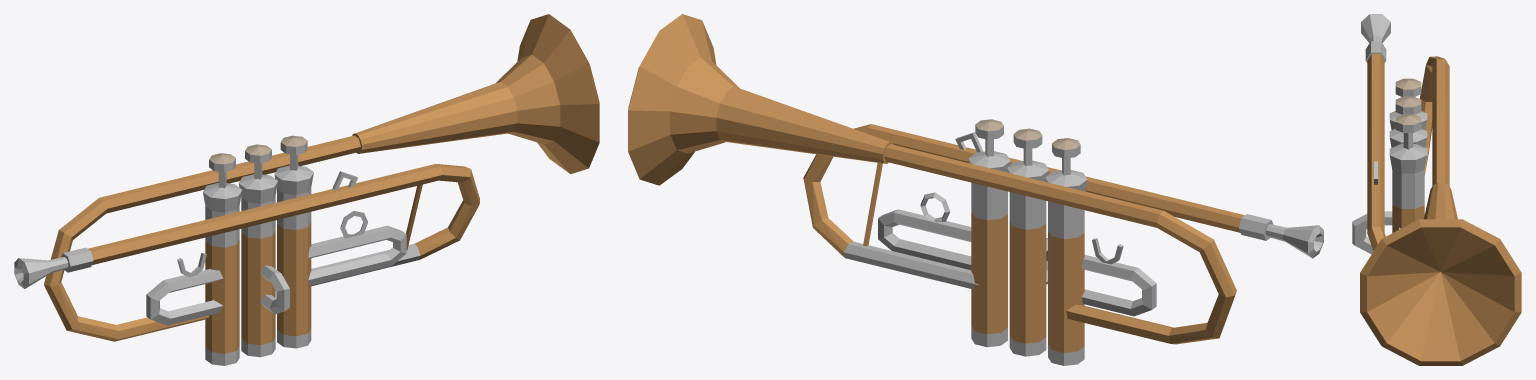
File: trumpet-349b2e.glb
The picture shows the model from 3 angles, left to right: view 1: azimuth 30°, elevation 25°; view 2: azimuth 150°, elevation 25°; view 3: azimuth 270°, elevation 25°; orthographic projection. The views are drawn at different scales.
Parts seen in each view (by area): view 1: trumpet-body, mouthpiece-mesh; view 2: trumpet-body, mouthpiece-mesh; view 3: trumpet-body, mouthpiece-mesh, piston-3-mesh, piston-1-pearl, piston-2-pearl, piston-3-pearl, piston-2-mesh, piston-1-mesh.
Boxes of the visible parts, left/top/right/bottom form: trumpet-body: left=44, top=14, right=599, bottom=365; mouthpiece-mesh: left=14, top=257, right=68, bottom=288; trumpet-body: left=628, top=14, right=1273, bottom=365; mouthpiece-mesh: left=1266, top=224, right=1323, bottom=258; trumpet-body: left=1352, top=41, right=1521, bottom=365; mouthpiece-mesh: left=1361, top=14, right=1390, bottom=42; piston-3-mesh: left=1395, top=122, right=1421, bottom=149; piston-1-pearl: left=1395, top=78, right=1421, bottom=89; piston-2-pearl: left=1395, top=96, right=1421, bottom=107; piston-3-pearl: left=1395, top=114, right=1421, bottom=124; piston-2-mesh: left=1395, top=104, right=1421, bottom=114; piston-1-mesh: left=1395, top=86, right=1421, bottom=96.
Size of the model in its own units: 0.499 by 0.1979 by 0.1255.
